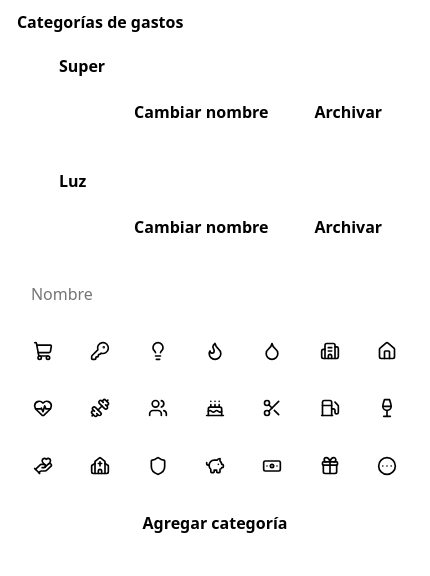
Test: CategorySettings › shows the icon field error
The image size is (430, 576).
Click the button "Agregar categoría" at (215,523), box [17, 499, 413, 547]
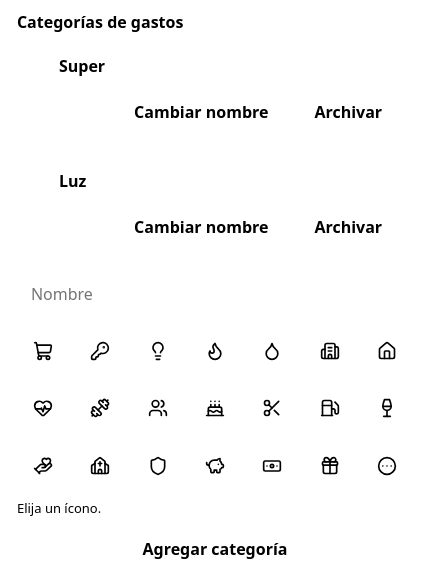
Now the text "Elija un ícono." is shown, box [17, 499, 101, 517]
